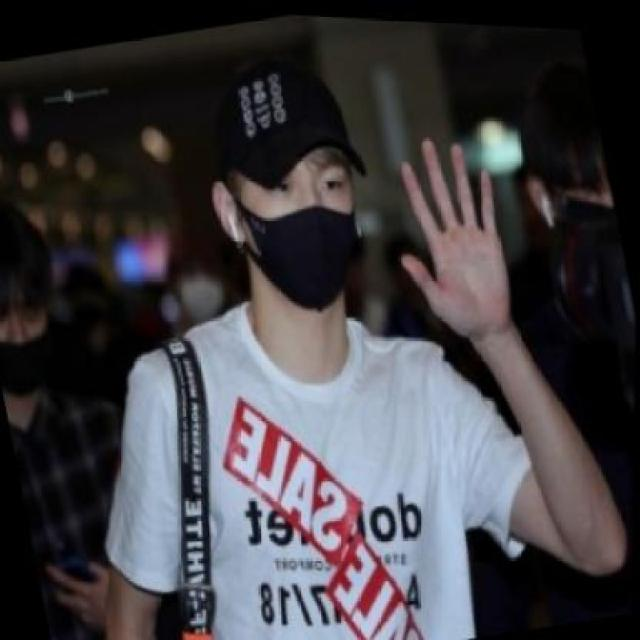hat: (195, 35, 372, 208)
